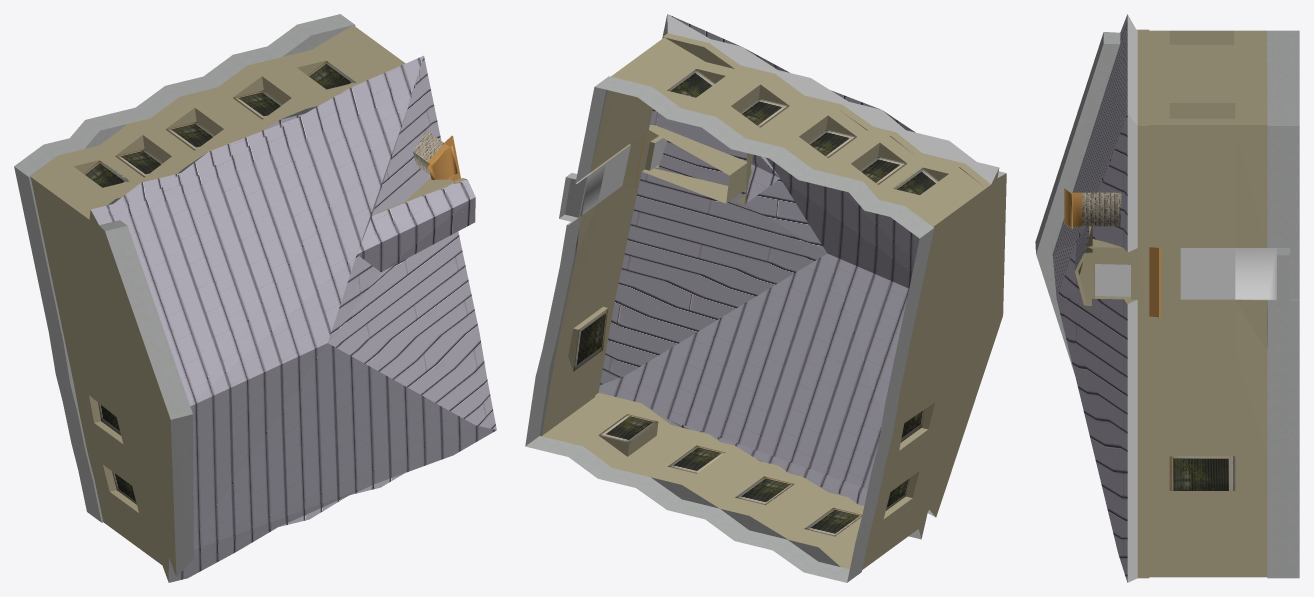
The model's file is Toompea8_3-origo.obj.
3 views of the same model, side by side, from view 1: azimuth 30°, elevation 25°; view 2: azimuth 150°, elevation 25°; view 3: azimuth 270°, elevation 25° (orthographic). The views are drawn at different scales.
Parts seen in each view (by area): view 1: Toompea_8_3; view 2: Toompea_8_3; view 3: Toompea_8_3.
Part boxes in pixels (left/top/right/bottom): Toompea_8_3: left=14, top=14, right=496, bottom=582; Toompea_8_3: left=525, top=14, right=1006, bottom=582; Toompea_8_3: left=1035, top=14, right=1299, bottom=582.
Bounding box in the file's own units: 14.62 × 16 × 7.5.
